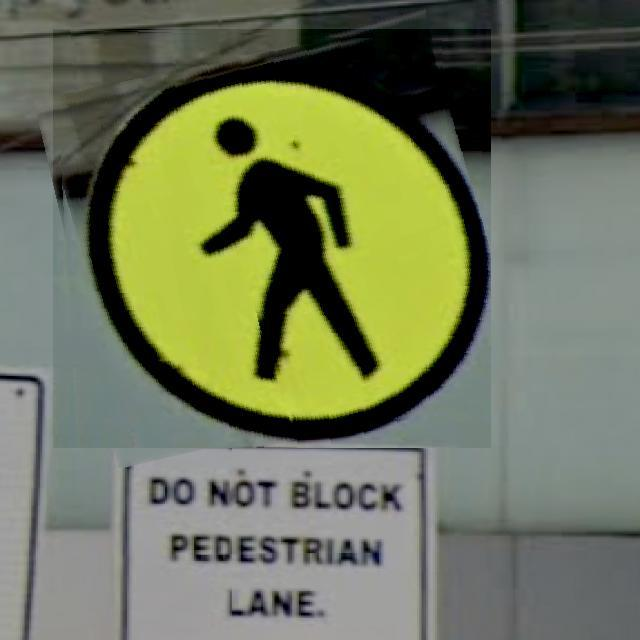pedestrian crossing: (53, 29, 491, 448)
